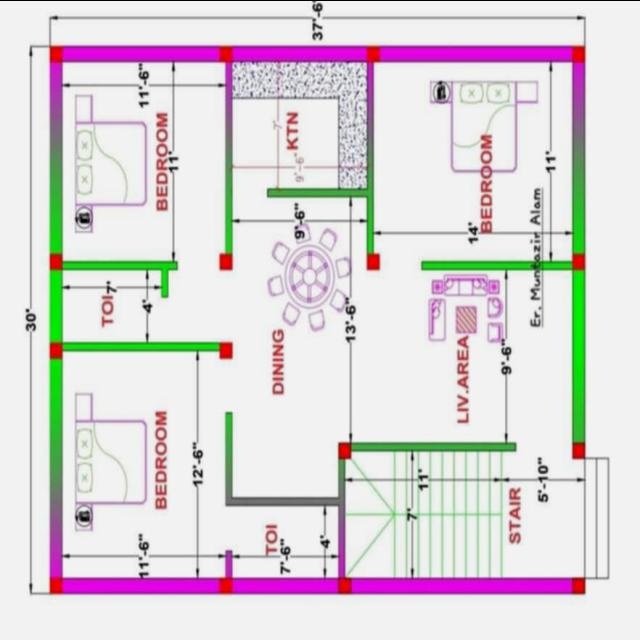column: (362, 241, 386, 279), (567, 32, 590, 71), (567, 570, 593, 604), (214, 333, 237, 368), (334, 569, 356, 603), (362, 38, 384, 71), (218, 569, 240, 602), (44, 336, 68, 366), (334, 434, 357, 464), (215, 39, 239, 67), (568, 436, 592, 464), (215, 247, 238, 276), (46, 38, 68, 68), (46, 572, 68, 600), (567, 249, 589, 276), (44, 250, 66, 274)
